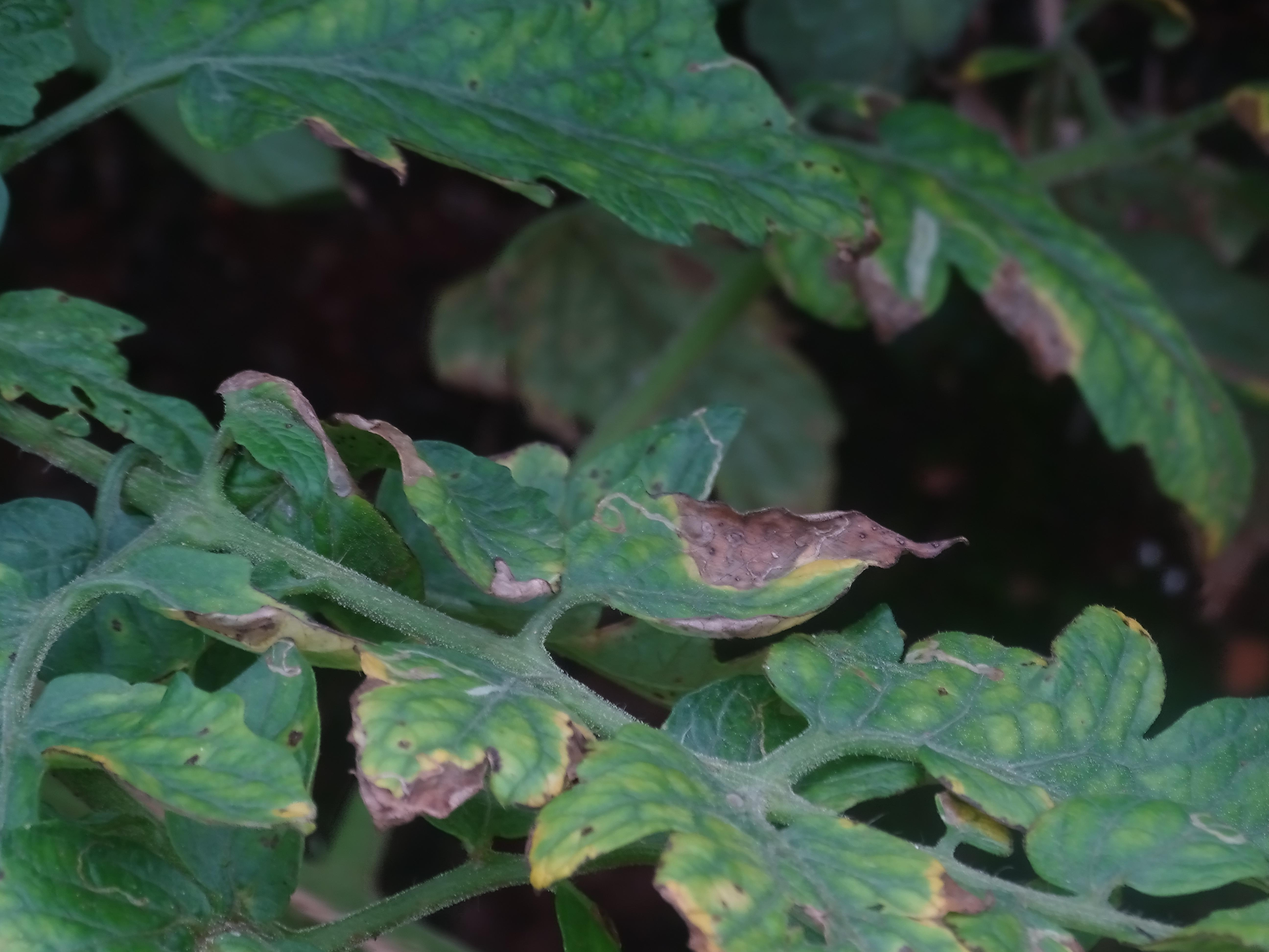Early Blight: (557, 486, 973, 645)
